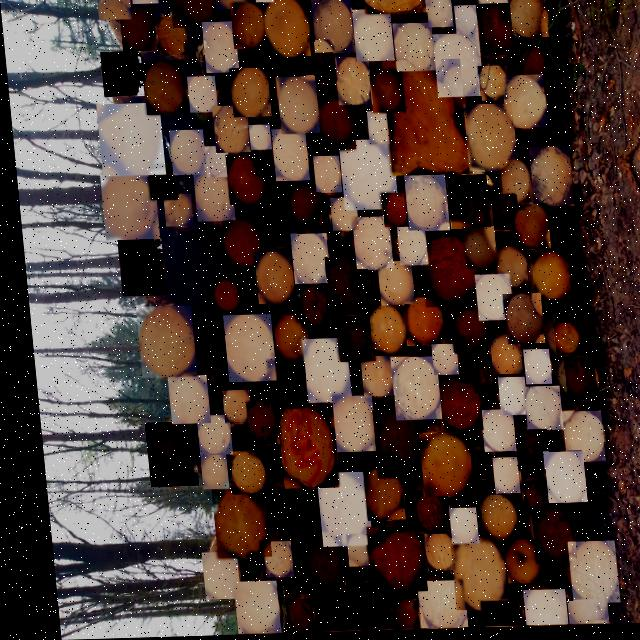wood-log: (387, 63, 468, 178), (272, 407, 327, 490), (96, 104, 158, 176), (418, 238, 472, 309), (441, 540, 494, 612), (134, 308, 188, 378), (338, 142, 392, 212), (308, 475, 360, 547), (205, 491, 258, 559), (358, 529, 413, 594), (99, 175, 152, 240), (463, 107, 512, 173), (219, 316, 267, 382), (368, 412, 414, 480), (138, 424, 187, 487), (413, 436, 462, 499), (558, 545, 606, 606), (385, 360, 432, 422), (434, 36, 479, 100), (285, 536, 332, 595), (298, 341, 342, 403), (265, 0, 309, 59), (115, 240, 159, 296), (430, 377, 473, 433), (322, 260, 364, 316), (522, 510, 564, 565), (529, 150, 567, 210), (276, 78, 316, 135), (406, 583, 454, 630), (402, 178, 443, 233), (326, 398, 366, 454), (223, 583, 266, 635), (312, 2, 353, 54), (144, 62, 184, 115), (502, 80, 543, 131), (445, 179, 485, 231), (303, 588, 349, 633), (478, 6, 517, 59), (536, 455, 576, 506), (556, 414, 595, 466), (219, 220, 258, 271), (250, 253, 288, 305), (355, 470, 393, 522), (349, 219, 387, 271), (314, 101, 352, 152), (354, 12, 392, 63), (499, 296, 537, 347), (393, 26, 433, 73), (161, 377, 200, 425), (191, 174, 230, 222), (269, 131, 305, 183), (230, 70, 268, 118), (223, 157, 260, 206), (363, 308, 400, 357), (287, 236, 323, 285), (101, 53, 141, 97), (262, 363, 299, 410), (203, 23, 237, 74), (256, 489, 293, 535), (400, 300, 437, 346), (527, 256, 564, 302), (211, 107, 247, 154), (334, 59, 369, 107), (342, 584, 378, 630), (192, 553, 227, 600), (331, 319, 367, 364), (471, 277, 506, 323), (231, 4, 265, 50), (446, 314, 483, 356), (494, 543, 530, 586), (120, 8, 155, 52), (168, 131, 202, 176), (510, 207, 544, 252), (517, 390, 553, 432), (471, 498, 506, 541), (268, 317, 300, 363), (223, 452, 257, 495), (373, 264, 407, 307), (513, 593, 555, 627), (368, 71, 401, 114), (511, 0, 545, 41), (473, 412, 506, 454), (259, 206, 292, 247), (460, 230, 492, 272), (171, 0, 217, 29), (295, 286, 326, 329), (189, 416, 222, 456), (508, 432, 540, 473), (407, 494, 438, 536), (558, 361, 589, 403), (239, 405, 270, 446), (498, 164, 527, 207), (491, 250, 522, 290), (286, 188, 317, 227), (354, 359, 385, 398), (483, 339, 514, 377), (393, 227, 422, 267), (304, 44, 333, 84), (514, 49, 545, 85), (157, 18, 186, 56), (415, 535, 444, 573), (192, 330, 220, 369), (186, 78, 215, 114), (491, 380, 519, 417), (253, 543, 282, 578), (366, 0, 428, 16), (439, 511, 467, 546), (146, 164, 173, 200), (470, 604, 506, 630), (311, 158, 337, 194), (556, 603, 595, 627), (274, 600, 302, 633), (478, 69, 506, 102), (192, 456, 219, 490), (327, 200, 354, 233), (215, 392, 243, 423), (161, 195, 188, 227), (517, 353, 543, 386), (484, 461, 509, 495), (208, 282, 234, 314), (488, 200, 514, 232), (380, 196, 405, 229), (548, 327, 574, 358), (366, 114, 390, 147), (514, 484, 539, 515), (466, 364, 491, 395), (425, 347, 450, 377), (427, 0, 452, 29), (380, 603, 405, 631), (203, 148, 226, 178), (99, 0, 131, 21), (337, 538, 359, 568), (454, 9, 476, 36), (462, 454, 483, 481), (247, 126, 268, 151), (217, 0, 247, 11), (480, 0, 512, 10), (133, 0, 159, 5), (256, 0, 274, 4)
